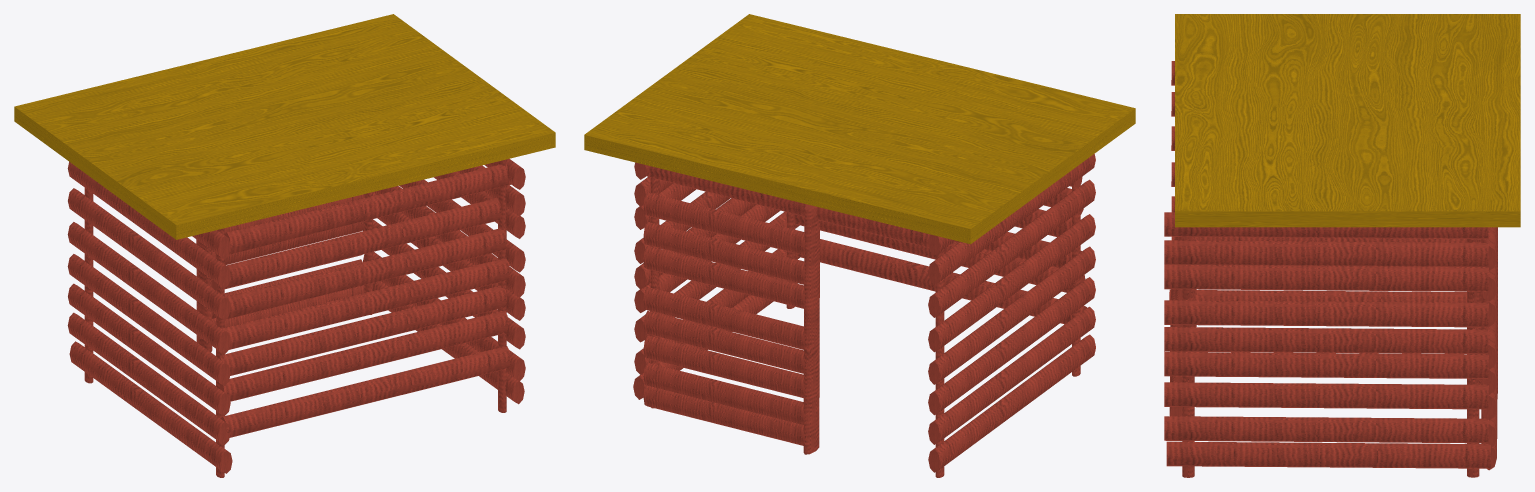
The model's file is house1.gltf.
3 renders of one model, left to right at view 1: azimuth 30°, elevation 25°; view 2: azimuth 150°, elevation 25°; view 3: azimuth 270°, elevation 25°, orthographic. The views are drawn at different scales.
Visible parts, largest first — view 1: Cylinder (×28), Box; view 2: Cylinder (×27), Box; view 3: Cylinder (×15), Box.
Part boxes in pixels (left/top/right/bottom): Cylinder (×28): left=67, top=159, right=525, bottom=473; Box: left=14, top=14, right=555, bottom=239; Cylinder (×27): left=633, top=154, right=1095, bottom=472; Box: left=584, top=14, right=1135, bottom=244; Cylinder (×15): left=1164, top=212, right=1497, bottom=477; Box: left=1175, top=14, right=1520, bottom=227.
Size of the model in its own units: 16.52 by 11.3 by 12.6.
Materials: 2 (2 with a texture image).
